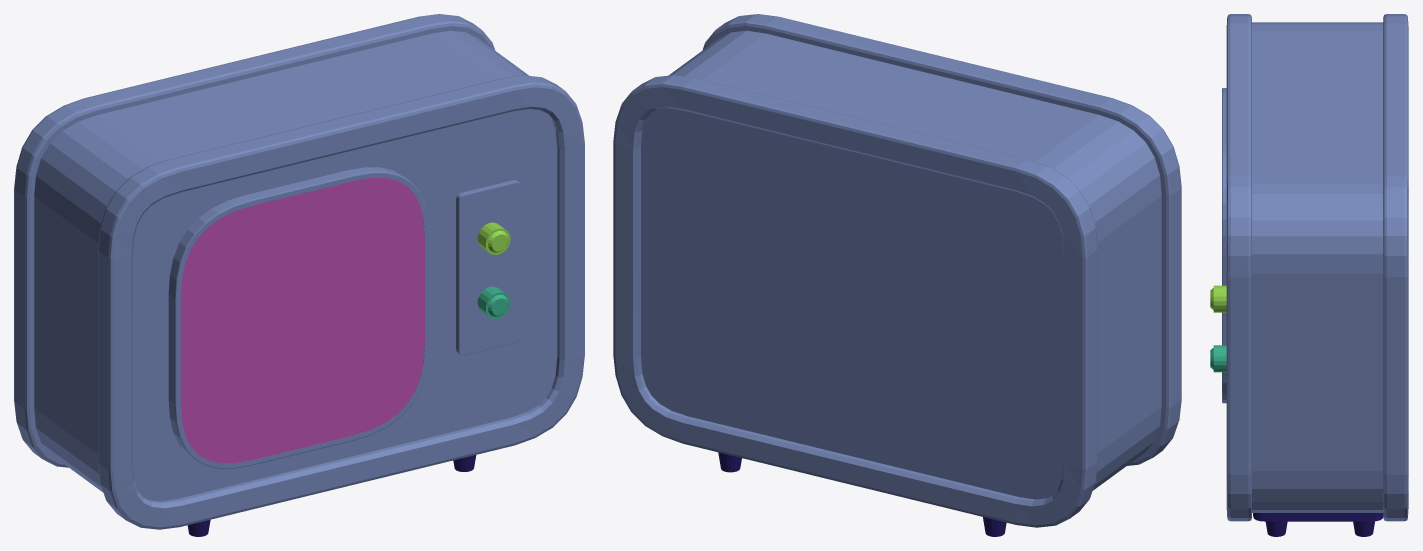
3 views of the same model, side by side, from view 1: azimuth 30°, elevation 25°; view 2: azimuth 150°, elevation 25°; view 3: azimuth 270°, elevation 25° (orthographic). The views are drawn at different scales.
Parts seen in each view (by area): view 1: world; view 2: world; view 3: world.
Part boxes in pixels (x1=…): world: x1=14, y1=14, x2=584, y2=536; world: x1=613, y1=14, x2=1181, y2=536; world: x1=1210, y1=14, x2=1408, y2=536.
Size of the model in its own units: 1 by 0.7926 by 0.3863.
